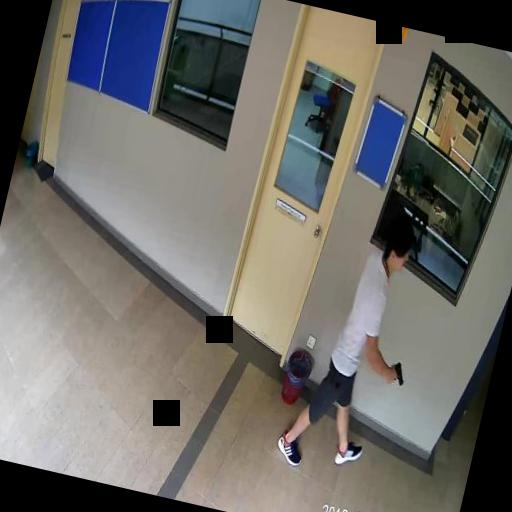Handgun: (386, 358, 408, 388)
